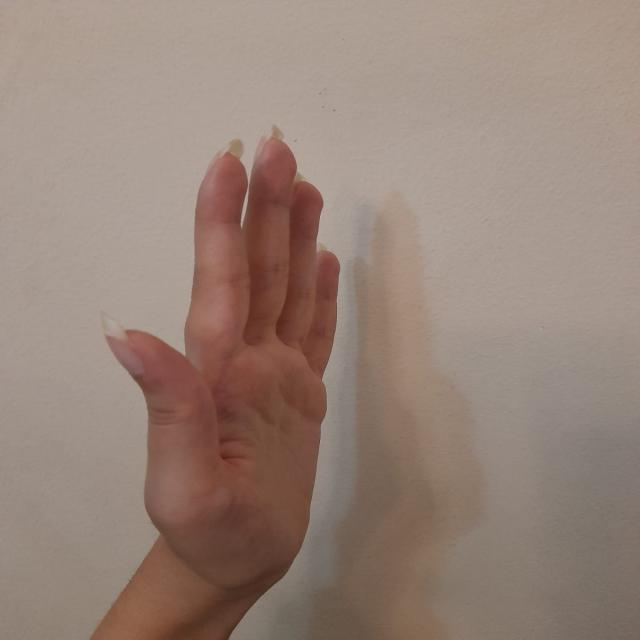Open Hand: (111, 142, 343, 587)
